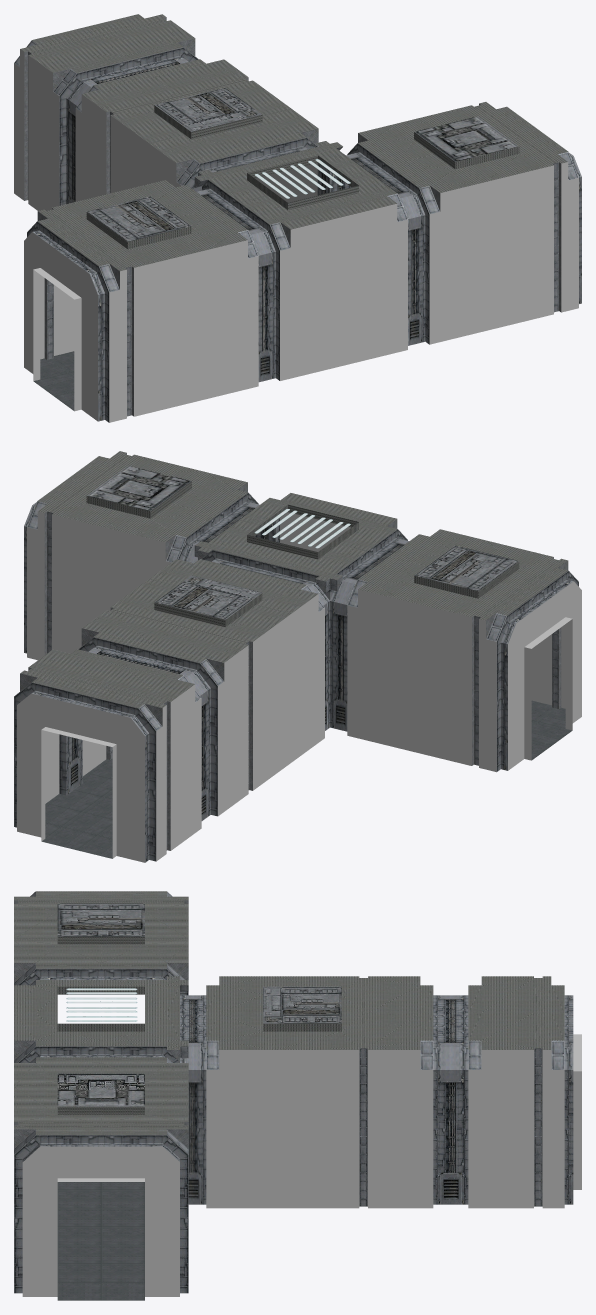
Rendered from poi_all_impl_bunker_warren_s01_r72_hall72_mesh_r72.fbx.
3 views of the same model, one above another, from view 1: azimuth 30°, elevation 25°; view 2: azimuth 150°, elevation 25°; view 3: azimuth 270°, elevation 25° (orthographic). The views are drawn at different scales.
Visible parts, largest first — view 1: mesh_node; view 2: mesh_node; view 3: mesh_node.
Boxes of the visible parts, bbox=[...] form: mesh_node: bbox=[14, 14, 581, 422]; mesh_node: bbox=[14, 451, 581, 862]; mesh_node: bbox=[14, 891, 581, 1300].
Bounding box in the file's own units: 14 × 4.2 × 13.
